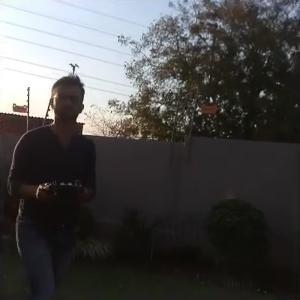follow: (2, 68, 100, 298)
